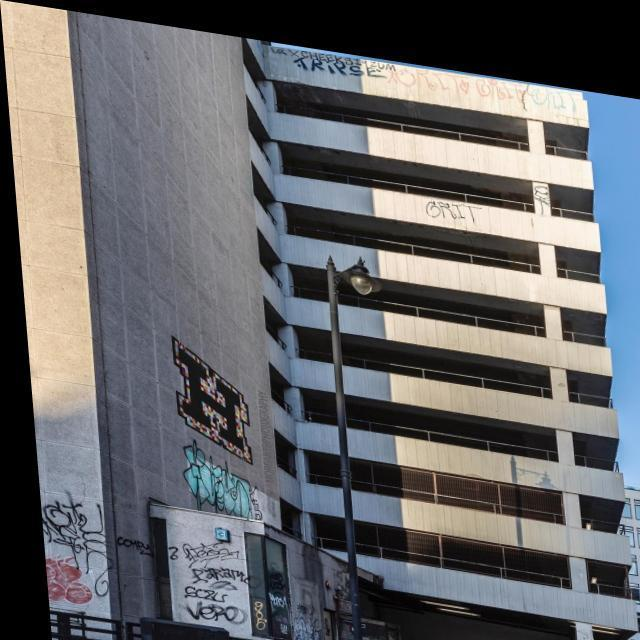-: (163, 326, 250, 461), (174, 438, 252, 512), (391, 51, 532, 88), (32, 491, 104, 563), (293, 43, 387, 74), (36, 554, 86, 609), (174, 594, 240, 623), (180, 557, 238, 587), (175, 534, 235, 562), (174, 578, 220, 600), (481, 629, 534, 640)
